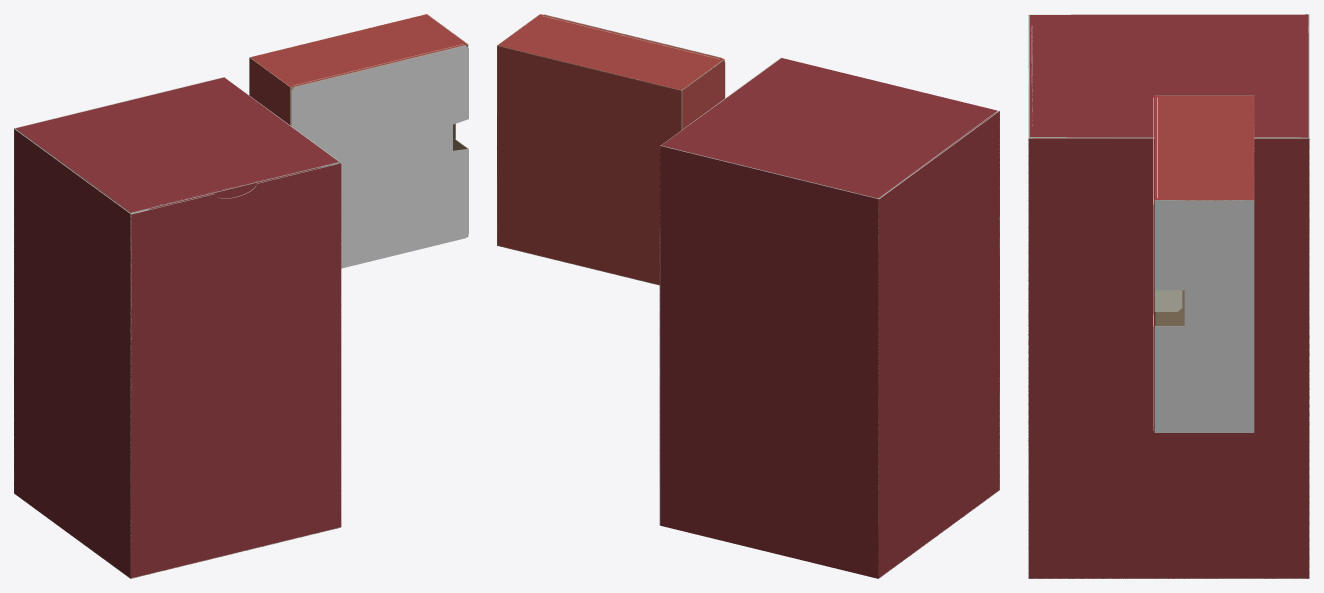
File: branded-cartons-refined.glb
3 views of the same model, side by side, from view 1: azimuth 30°, elevation 25°; view 2: azimuth 150°, elevation 25°; view 3: azimuth 270°, elevation 25° (orthographic). The views are drawn at different scales.
Visible parts, largest first — view 1: NayukiFrontPrintedBoard, NayukiLeftFoldedSide, TastienActualCircleLionPrint, NayukiTopFoldPanel, TastienTopFoldedWall, TastienLeftHingeWall; view 2: NayukiBackBoard, NayukiLeftFoldedSide, TastienUnprintedBackTray, NayukiTopFoldPanel, TastienTopFoldedWall, TastienLeftHingeWall, NayukiRightFoldedSide; view 3: NayukiRightFoldedSide, NayukiTopFoldPanel, TastienActualSidePrintingLower, TastienTopFoldedWall, TastienActualSidePrintingUpper, TastienActualSidePrintingLatchBack, TastienRoundedLockTongue, TastienLeftHingeWall, NayukiBackBoard, NayukiFrontPrintedBoard.
Boxes of the visible parts, left/top/right/bottom form: NayukiFrontPrintedBoard: left=130, top=163, right=341, bottom=578; NayukiLeftFoldedSide: left=14, top=129, right=131, bottom=578; TastienActualCircleLionPrint: left=291, top=45, right=468, bottom=268; NayukiTopFoldPanel: left=15, top=77, right=338, bottom=213; TastienTopFoldedWall: left=250, top=14, right=468, bottom=88; TastienLeftHingeWall: left=249, top=57, right=290, bottom=125; NayukiBackBoard: left=659, top=145, right=878, bottom=578; NayukiLeftFoldedSide: left=878, top=110, right=999, bottom=578; TastienUnprintedBackTray: left=497, top=46, right=682, bottom=284; NayukiTopFoldPanel: left=661, top=58, right=997, bottom=198; TastienTopFoldedWall: left=497, top=14, right=724, bottom=90; TastienLeftHingeWall: left=681, top=59, right=724, bottom=129; NayukiRightFoldedSide: left=659, top=57, right=781, bottom=525; NayukiRightFoldedSide: left=1028, top=138, right=1309, bottom=578; NayukiTopFoldPanel: left=1030, top=14, right=1308, bottom=138; TastienActualSidePrintingLower: left=1154, top=326, right=1254, bottom=432; TastienTopFoldedWall: left=1154, top=96, right=1254, bottom=200; TastienActualSidePrintingUpper: left=1154, top=200, right=1254, bottom=290; TastienActualSidePrintingLatchBack: left=1184, top=290, right=1254, bottom=326; TastienRoundedLockTongue: left=1154, top=290, right=1182, bottom=311; TastienLeftHingeWall: left=1155, top=95, right=1253, bottom=325; NayukiBackBoard: left=1309, top=14, right=1309, bottom=578; NayukiFrontPrintedBoard: left=1028, top=15, right=1028, bottom=578.
Size of the model in its own units: 0.4637 by 0.4559 by 0.2403.
